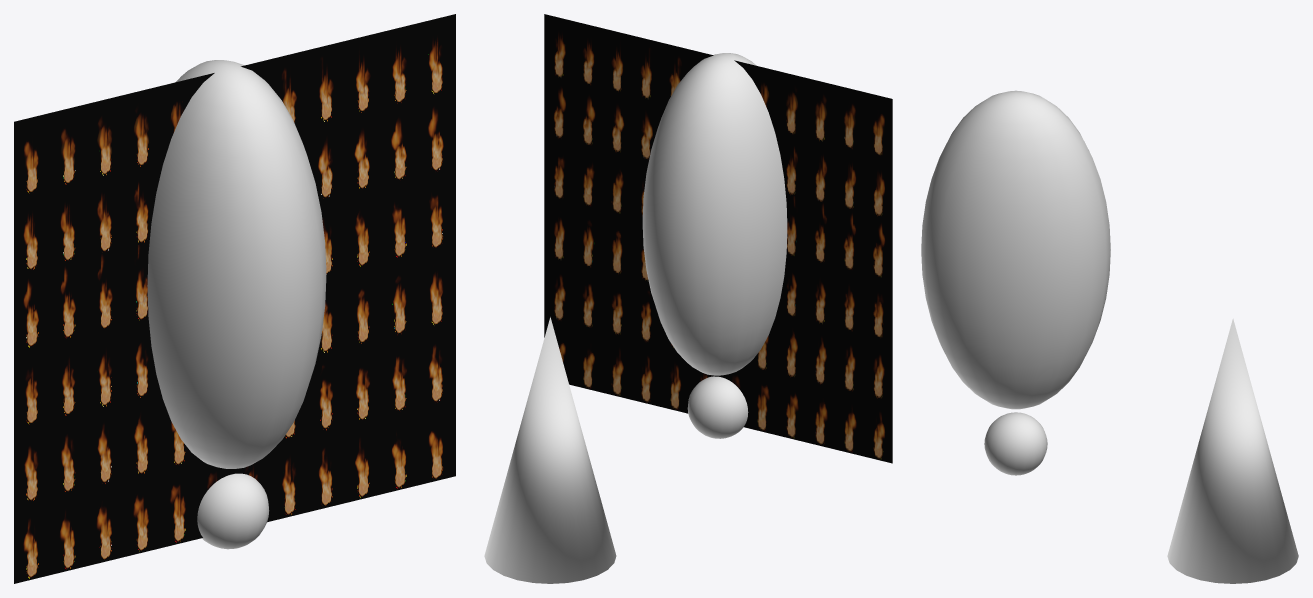
File: texture_flames.005.fbx
The picture shows the model from 3 angles, left to right: view 1: azimuth 30°, elevation 25°; view 2: azimuth 150°, elevation 25°; view 3: azimuth 270°, elevation 25°; orthographic projection. The views are drawn at different scales.
Parts seen in each view (by area): view 1: Plane, MaskSphere, pSphere1; view 2: Plane, MaskSphere, Cone, pSphere1; view 3: MaskSphere, Cone, pSphere1.
Part boxes in pixels (x1,y1,x2,y2): Plane: (14, 14, 455, 583); MaskSphere: (147, 60, 326, 468); pSphere1: (197, 473, 269, 549); Plane: (544, 14, 892, 463); MaskSphere: (642, 53, 787, 375); Cone: (484, 317, 616, 583); pSphere1: (687, 376, 748, 438); MaskSphere: (921, 90, 1110, 409); Cone: (1167, 318, 1298, 583); pSphere1: (984, 412, 1047, 475).
Size of what is drawn, in the model's own units: 200 by 238 by 189.
1 material, 1 textured.
